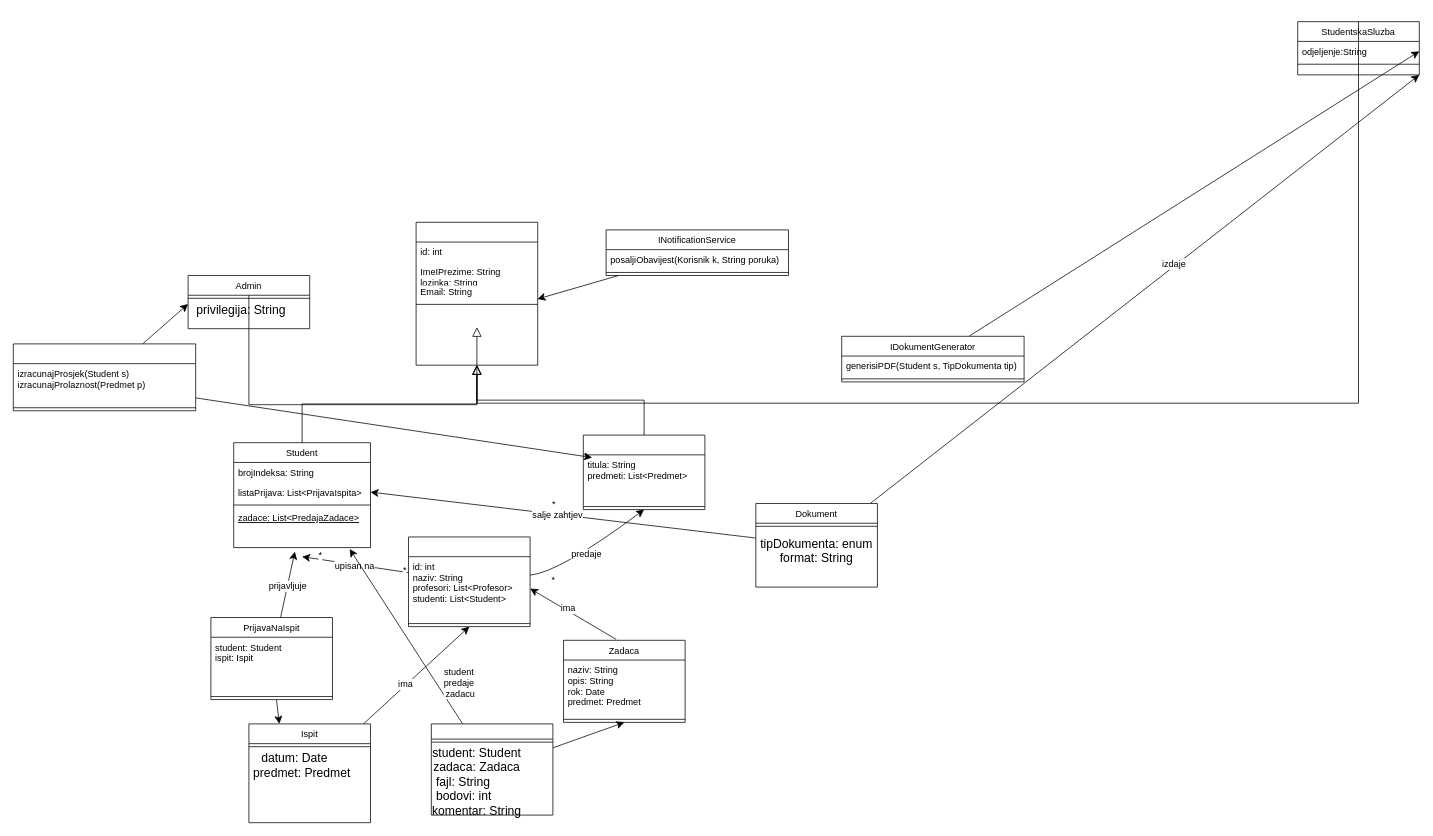
Image size: 1433x836. Some labels were removed from this diagram. The box of each missing label's shape, as (x1, y1, x2, y2) in pixels:
IStatistikaService: (13, 343, 196, 411)
Korisnik: (415, 222, 538, 365)
PredajaZadace: (431, 723, 553, 815)
Predmet: (408, 536, 530, 627)
Profesor: (583, 434, 705, 510)
